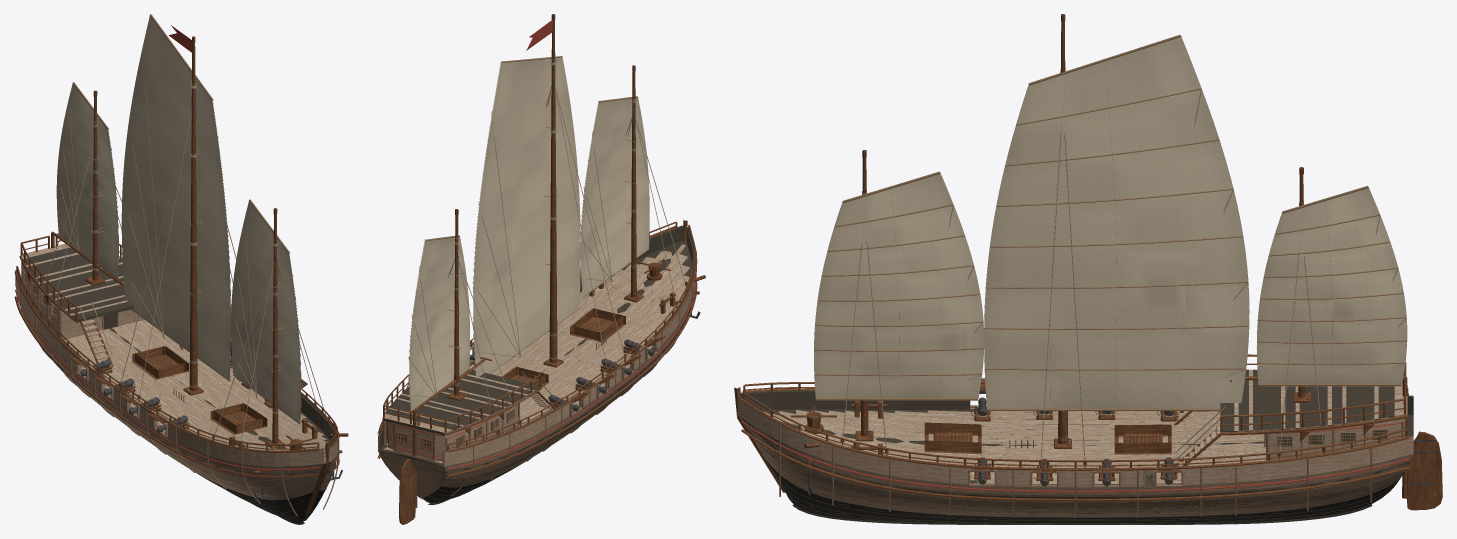
File: fuchuan-lod1.glb
The picture shows the model from 3 angles, left to right: view 1: azimuth 30°, elevation 25°; view 2: azimuth 150°, elevation 25°; view 3: azimuth 270°, elevation 25°; orthographic projection. The views are drawn at different scales.
Parts seen in each view (by area): view 1: sail_1, hull, deck, sail_0, sail_2, shadow_deck, deck_fittings, bulwark_rails, mast_timber_1, shadow_hull, sterncastle, mast_timber_0 (+6 smaller); view 2: sail_1, deck, hull, sail_0, sail_2, shadow_deck, deck_fittings, shadow_hull, bulwark_rails, mast_timber_1, mast_timber_0, cargo_hold_coaming_5.8 (+8 smaller); view 3: sail_1, hull, sail_0, sail_2, deck, shadow_hull, shadow_deck, bulwark_rails, deck_fittings, rudder_blade, sterncastle, cargo_hold_coaming_5.8 (+2 smaller).
Part boxes in pixels (x1,y1,x2,y2): sail_1: (121, 14, 231, 381); hull: (14, 270, 339, 524); deck: (19, 243, 329, 450); sail_0: (231, 199, 301, 424); sail_2: (56, 82, 118, 278); shadow_deck: (22, 247, 133, 322); deck_fittings: (21, 262, 348, 498); bulwark_rails: (16, 233, 337, 450); mast_timber_1: (189, 43, 197, 390); shadow_hull: (15, 270, 335, 521); sterncastle: (23, 266, 144, 339); mast_timber_0: (272, 214, 278, 443); sail_1: (472, 56, 580, 378); deck: (382, 244, 689, 463); hull: (377, 220, 697, 504); sail_0: (580, 96, 649, 297); sail_2: (408, 235, 469, 411); shadow_deck: (383, 369, 540, 435); deck_fittings: (383, 259, 705, 460); shadow_hull: (378, 225, 693, 502); bulwark_rails: (379, 221, 695, 450); mast_timber_1: (549, 20, 557, 362); mast_timber_0: (631, 71, 636, 297); cargo_hold_coaming_5.8: (570, 308, 625, 342); sail_1: (984, 35, 1249, 411); hull: (734, 387, 1413, 524); sail_0: (814, 171, 984, 400); sail_2: (1256, 186, 1407, 386); deck: (763, 369, 1407, 483); shadow_hull: (738, 390, 1413, 523); shadow_deck: (1220, 369, 1394, 432); bulwark_rails: (743, 354, 1408, 467); deck_fittings: (790, 385, 1407, 494); rudder_blade: (1406, 431, 1442, 510); sterncastle: (1266, 418, 1404, 460); cargo_hold_coaming_5.8: (924, 422, 981, 454).
Bounding box in the file's own units: 10.4 × 26.66 × 33.57.
Materials: 13 (8 with a texture image).
